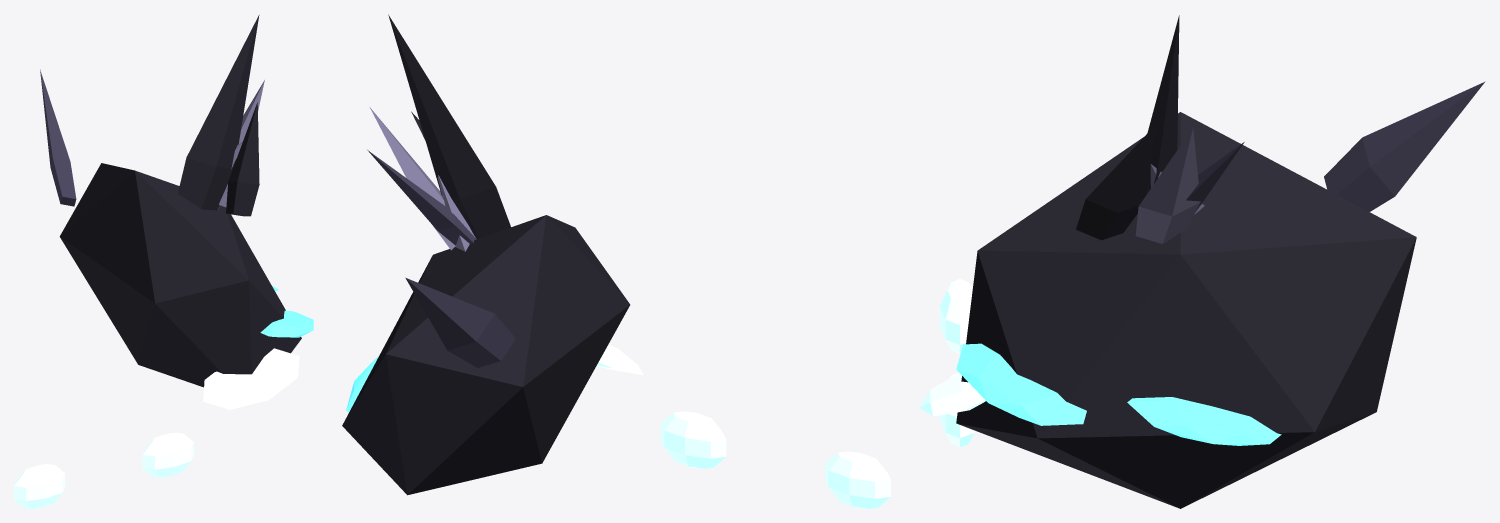
File: glassbound_skull.glb
3 renders of one model, left to right at view 1: azimuth 30°, elevation 25°; view 2: azimuth 150°, elevation 25°; view 3: azimuth 270°, elevation 25°, orthographic. The views are drawn at different scales.
Visible parts, largest first — view 1: glassbound_skull; view 2: glassbound_skull; view 3: glassbound_skull.
Part boxes in pixels (box(x1,y1,x2,y2)): glassbound_skull: box(14, 15, 313, 508); glassbound_skull: box(342, 14, 890, 508); glassbound_skull: box(919, 15, 1485, 508).
Bounding box in the file's own units: 0.8061 × 0.8493 × 0.7961.
